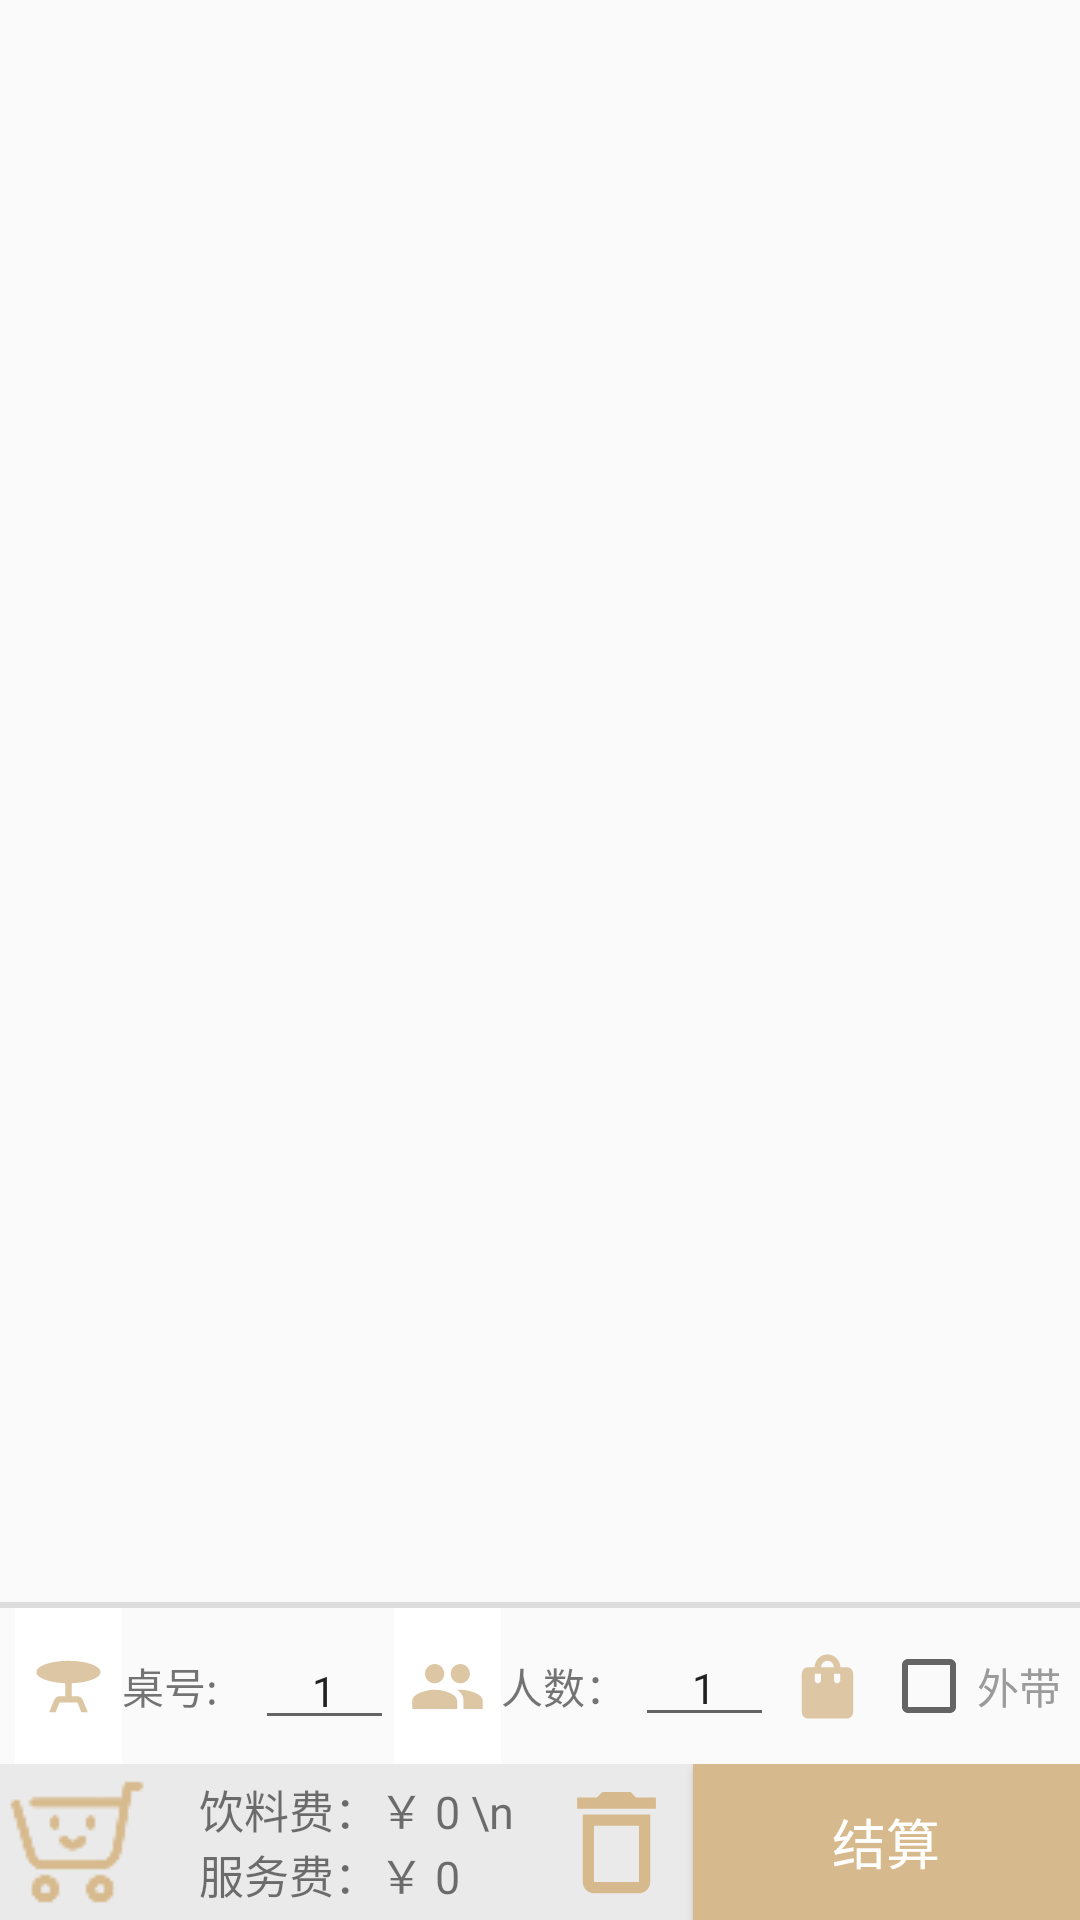

Icons on this 1080x1920 Android screen, each with its box as bbox=(x1, y1, x2, y2):
delete: bbox=(577, 1792, 656, 1893)
shop: bbox=(10, 1781, 144, 1903)
shopping bag: bbox=(802, 1654, 853, 1719)
